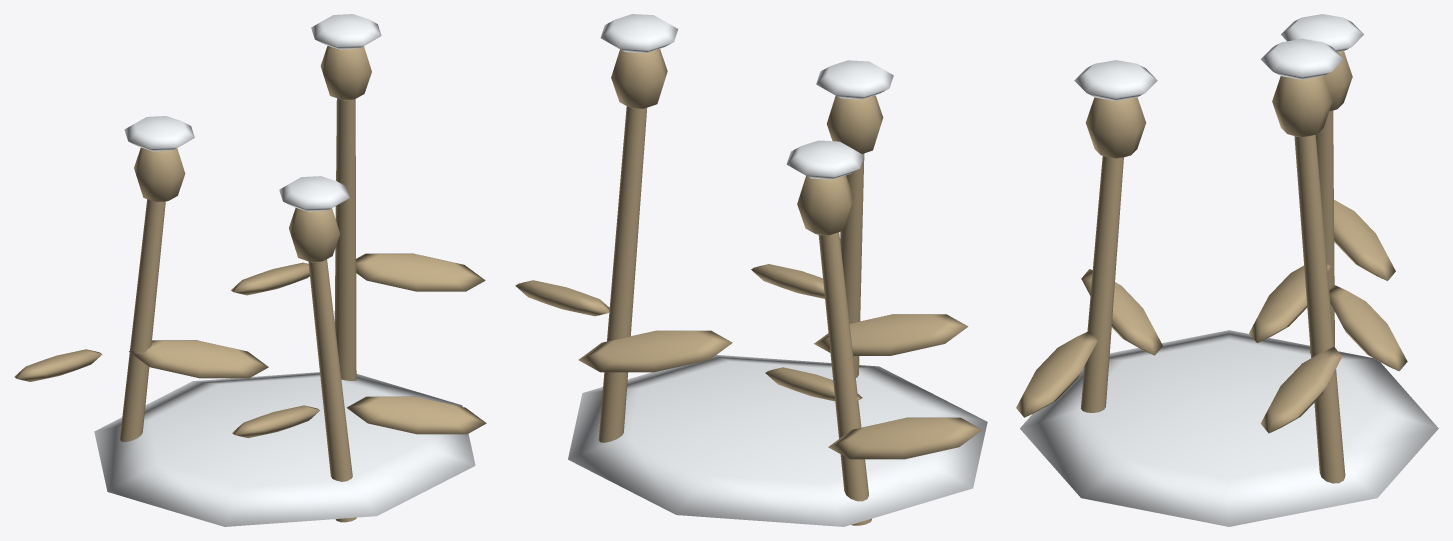
Rendered from flower_0_winter.glb.
3 views of the same model, side by side, from view 1: azimuth 30°, elevation 25°; view 2: azimuth 150°, elevation 25°; view 3: azimuth 270°, elevation 25° (orthographic). The views are drawn at different scales.
Size of the model in its own units: 0.5021 by 0.4371 by 0.3631.
